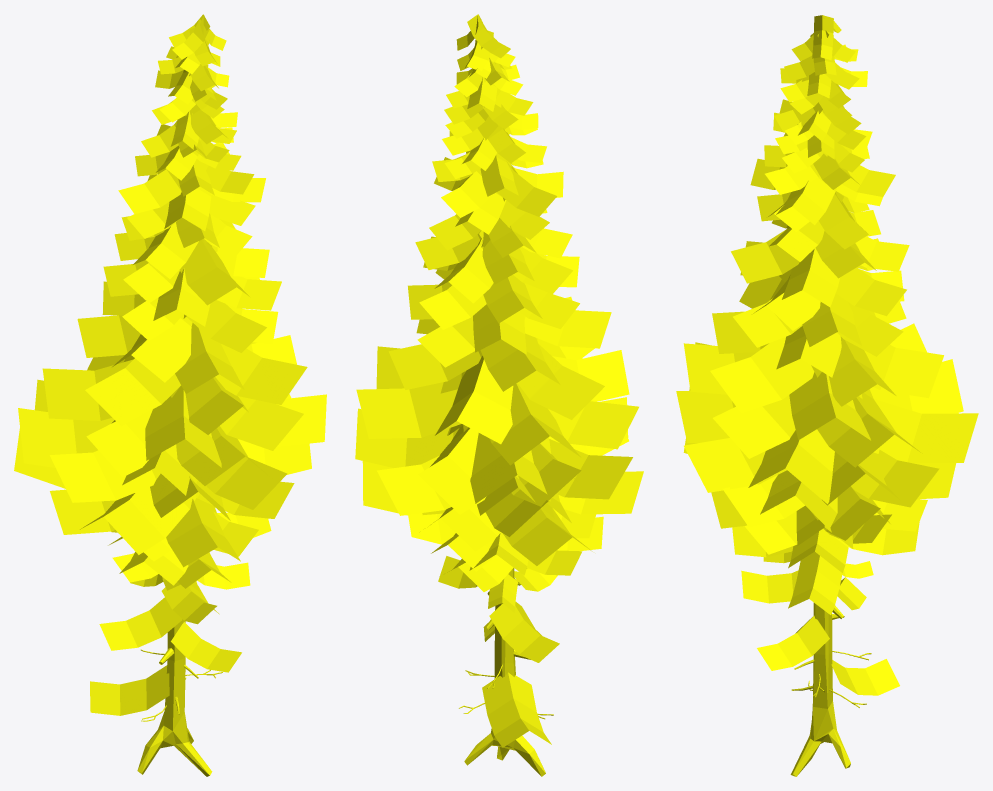
The model's file is tree_spruce_tall.glb.
The picture shows the model from 3 angles, left to right: view 1: azimuth 30°, elevation 25°; view 2: azimuth 150°, elevation 25°; view 3: azimuth 270°, elevation 25°; orthographic projection. The views are drawn at different scales.
Visible parts, largest first — view 1: Hight_Spruce_LOD0, SM_Big_Hight_Spruce_LOD0; view 2: Hight_Spruce_LOD0, SM_Big_Hight_Spruce_LOD0; view 3: Hight_Spruce_LOD0, SM_Big_Hight_Spruce_LOD0.
Boxes of the visible parts, left/top/right/bottom form: Hight_Spruce_LOD0: left=14, top=14, right=326, bottom=715; SM_Big_Hight_Spruce_LOD0: left=137, top=619, right=222, bottom=776; Hight_Spruce_LOD0: left=355, top=14, right=643, bottom=747; SM_Big_Hight_Spruce_LOD0: left=459, top=20, right=553, bottom=776; Hight_Spruce_LOD0: left=676, top=15, right=978, bottom=695; SM_Big_Hight_Spruce_LOD0: left=790, top=17, right=871, bottom=776.
Bounding box in the file's own units: 4.5 × 12.32 × 4.4.
